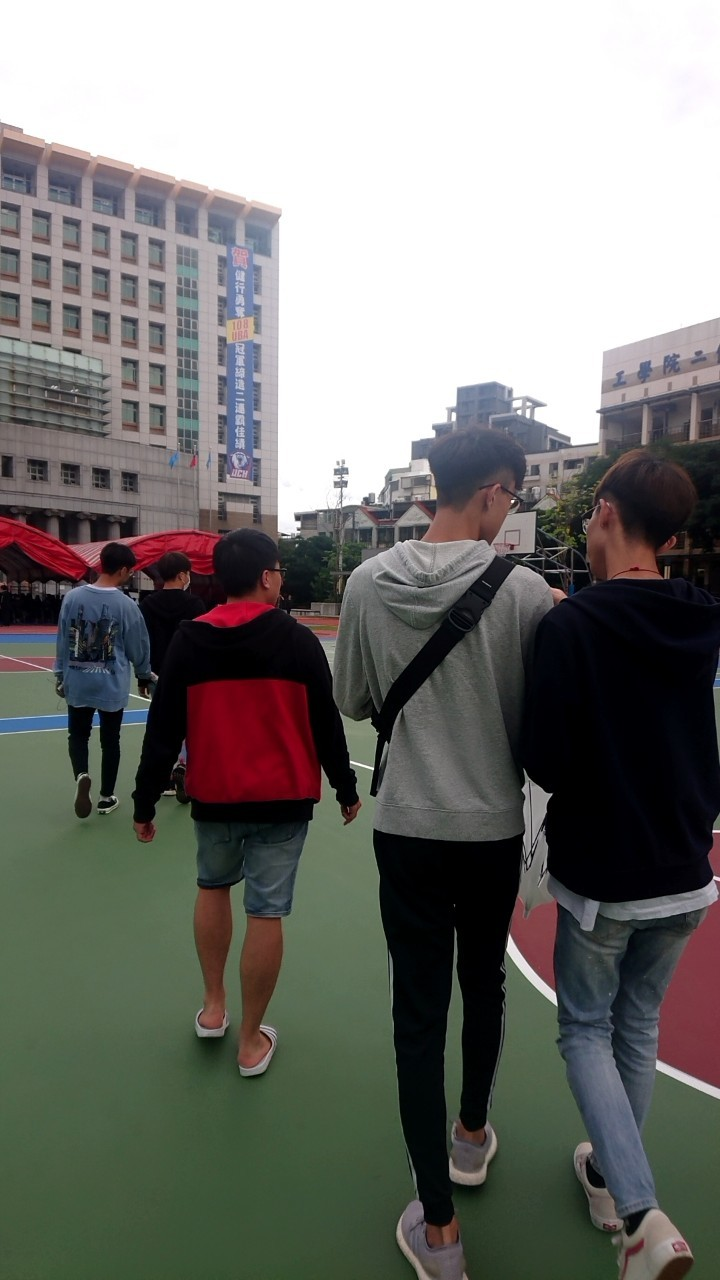people: (554, 439, 720, 1280), (377, 429, 518, 1274), (173, 533, 312, 1074), (65, 551, 124, 814), (144, 551, 181, 827)
